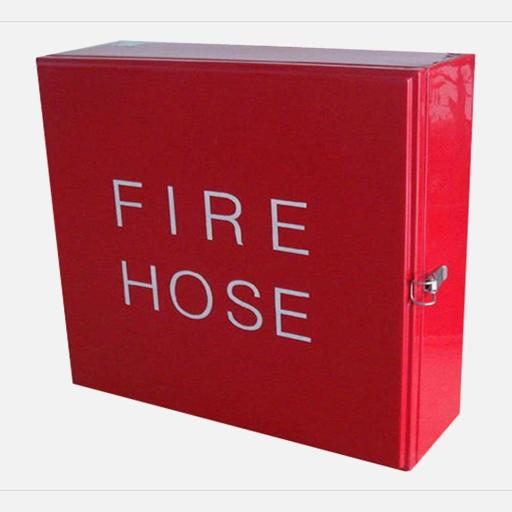fire_hose: (22, 21, 477, 477)
